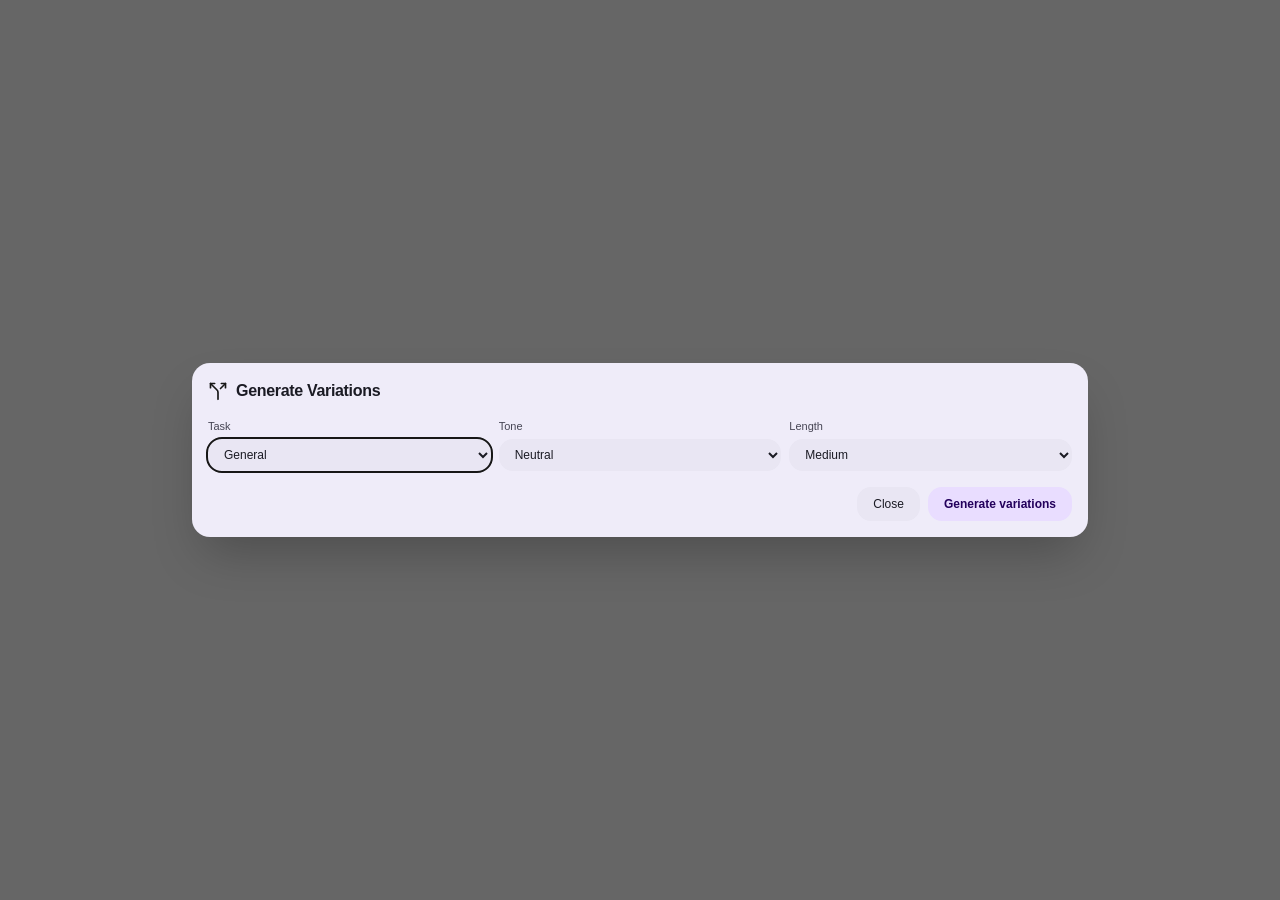
Test: VariationsDialog › shows a loading message while waiting
Click the button "Generate variations".
click(1000, 504)  # box [928,487,1072,521]
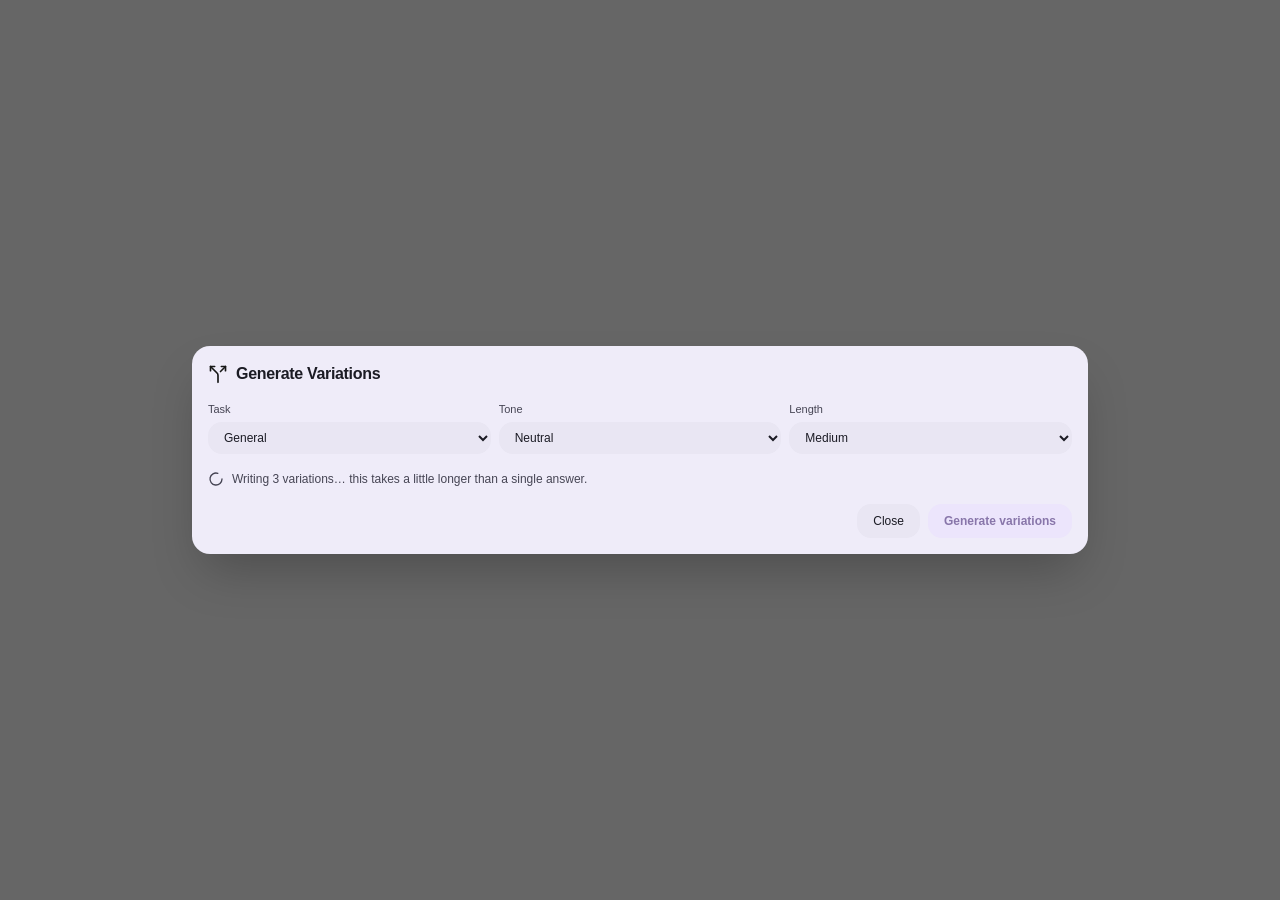
Check: the text "Writing 3 variations… this takes a little longer than a single answer." is shown, box [208,471,587,487]
Check: the button "Generate variations" is disabled, box [928,504,1072,538]
